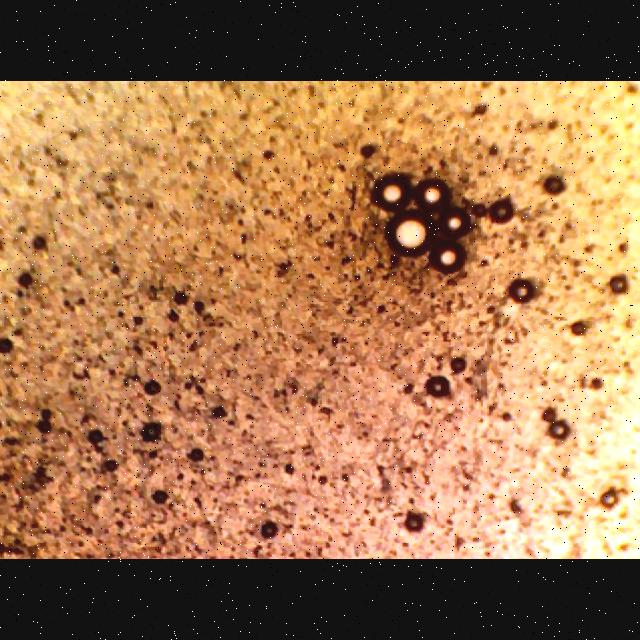microbeads: (386, 212, 434, 258), (430, 232, 470, 274), (412, 172, 452, 214), (432, 202, 478, 238), (368, 176, 416, 210)
